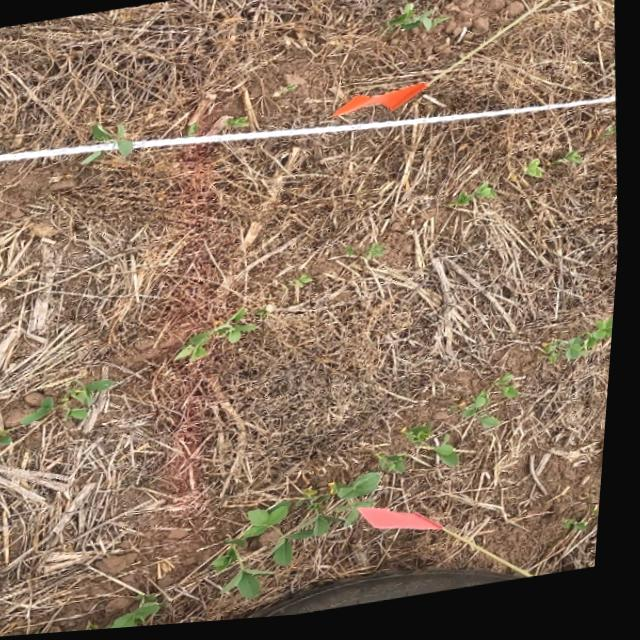soy_plant: (221, 431, 466, 602), (181, 310, 261, 363), (27, 381, 118, 423), (467, 380, 526, 435), (549, 326, 619, 371), (109, 598, 169, 631), (384, 9, 448, 36), (528, 158, 585, 185), (94, 124, 134, 156), (453, 188, 500, 213), (209, 119, 249, 136), (367, 248, 390, 265), (0, 429, 19, 446), (84, 152, 105, 164), (298, 278, 317, 290), (605, 134, 618, 144)
